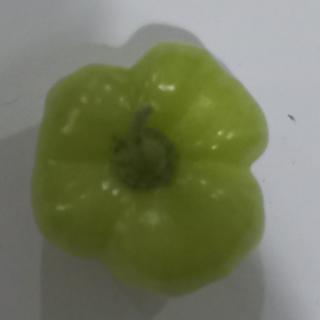Grade-B: (24, 37, 282, 298)
